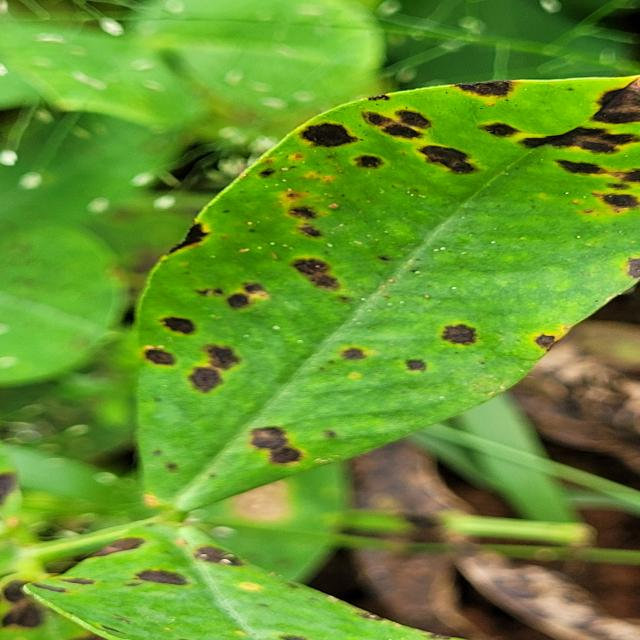Ground nut_tikka leaf spot: (139, 69, 640, 510)
